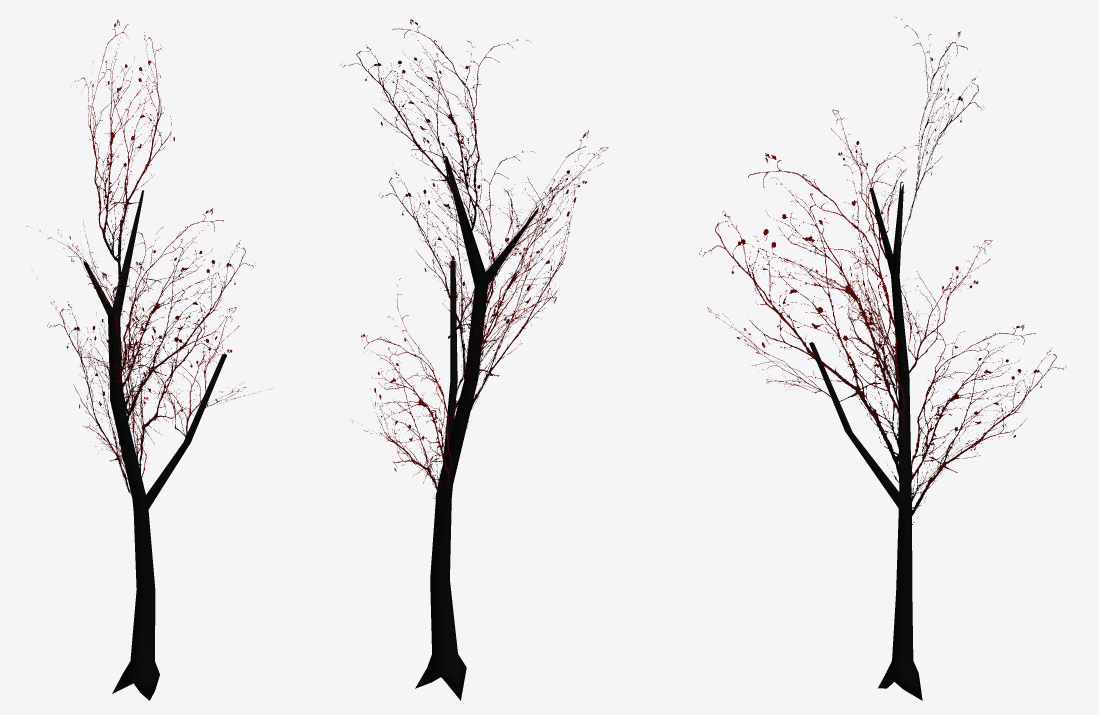
Rendered from TreeMid1.glb.
3 views of the same model, side by side, from view 1: azimuth 30°, elevation 25°; view 2: azimuth 150°, elevation 25°; view 3: azimuth 270°, elevation 25° (orthographic). The views are drawn at different scales.
Parts seen in each view (by area): view 1: TreeMid1; view 2: TreeMid1; view 3: TreeMid1.
Part boxes in pixels (bbox=[...]): TreeMid1: bbox=[26, 19, 272, 700]; TreeMid1: bbox=[339, 19, 608, 700]; TreeMid1: bbox=[699, 17, 1066, 700].
Bounding box in the file's own units: 1.96 × 4.81 × 2.66.
Materials: 1 (1 with a texture image).
